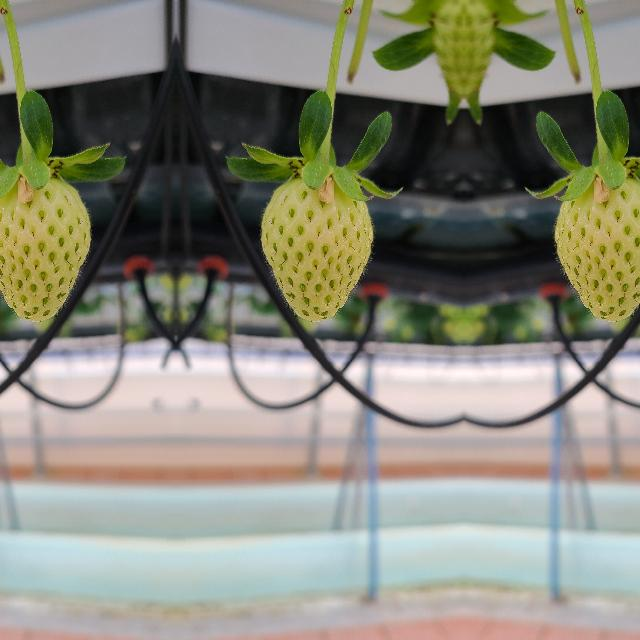Health_25: (260, 178, 372, 322), (0, 178, 90, 322), (554, 178, 640, 322)
